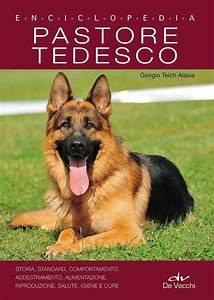dog: (8, 71, 195, 258)
